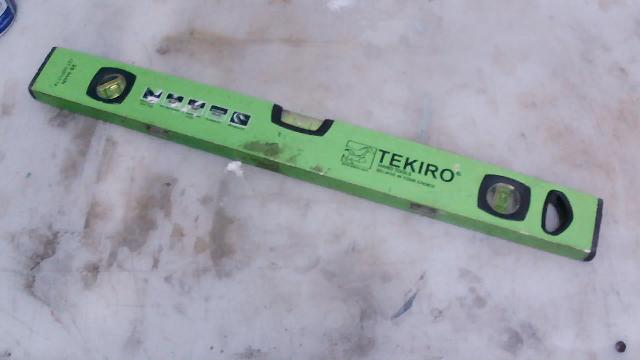water_pass: (24, 31, 621, 274)
